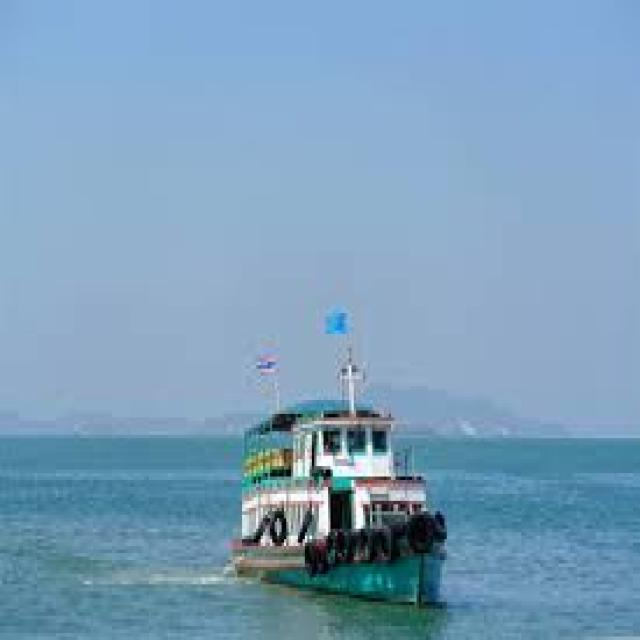fishing boat: (224, 360, 453, 604)
